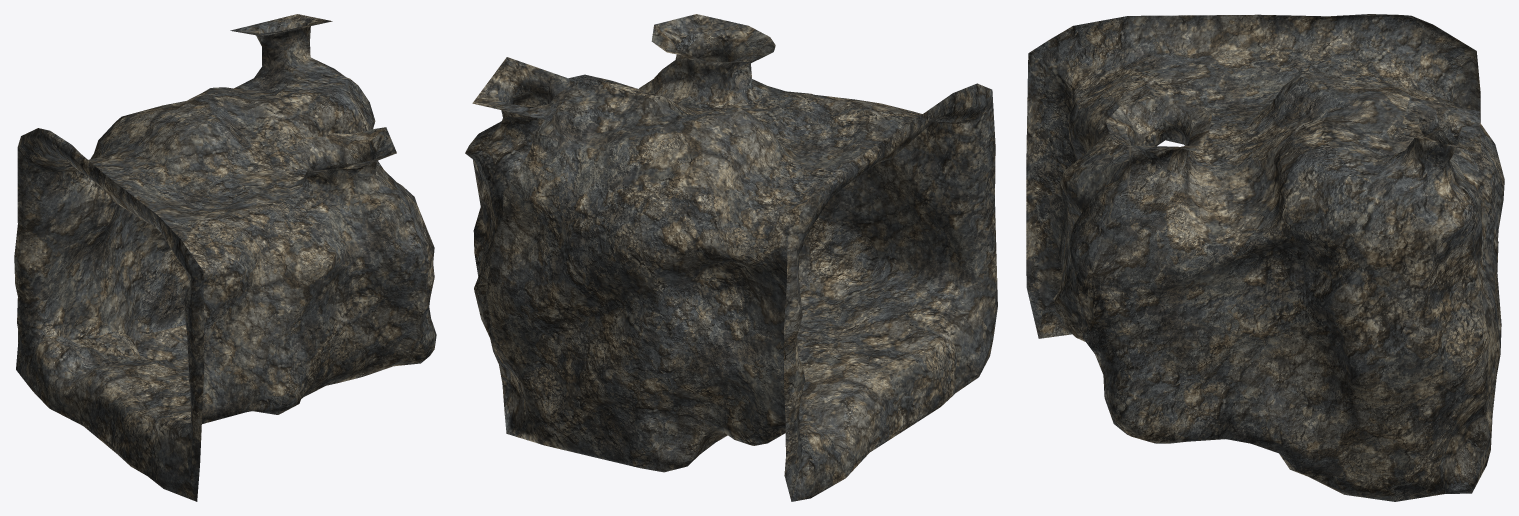
Rendered from Module15D.fbx.
3 renders of one model, left to right at view 1: azimuth 30°, elevation 25°; view 2: azimuth 150°, elevation 25°; view 3: azimuth 270°, elevation 25°, orthographic. The views are drawn at different scales.
Parts seen in each view (by area): view 1: cave_el15D_1900:Group781; view 2: cave_el15D_1900:Group781; view 3: cave_el15D_1900:Group781.
Boxes of the visible parts, <box> form: cave_el15D_1900:Group781: <box>14,14,436,501</box>; cave_el15D_1900:Group781: <box>465,14,997,501</box>; cave_el15D_1900:Group781: <box>1026,14,1504,501</box>.
Size of the model in its own units: 35.06 by 33.34 by 37.55.
